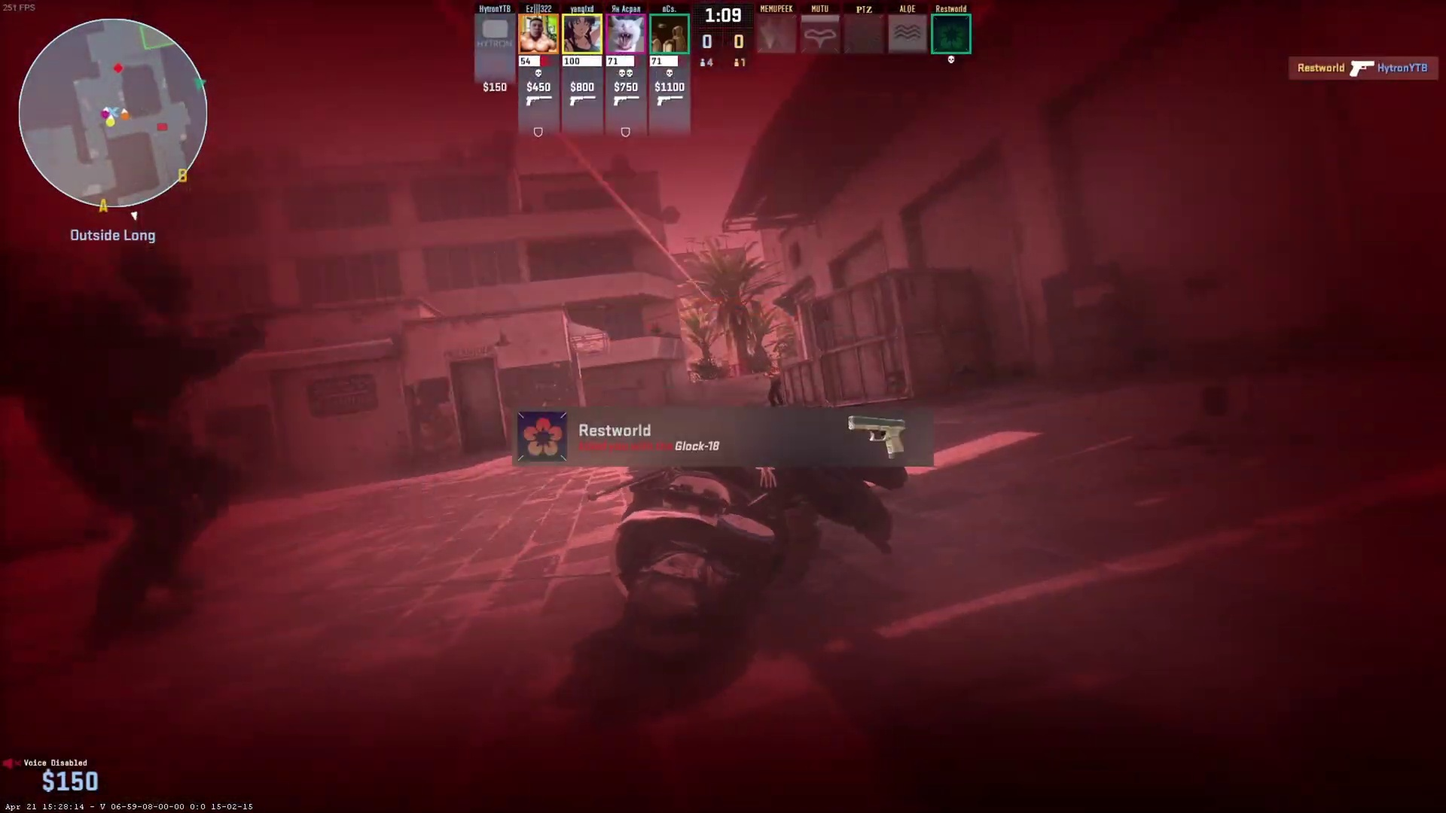CT: (15, 246, 244, 672)
Terrorist: (765, 367, 782, 408)
